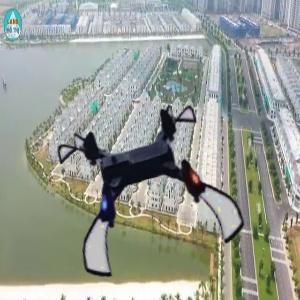drone: (67, 107, 237, 277)
